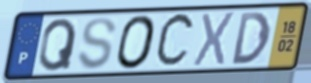C: (152, 10, 197, 72)
D: (230, 10, 272, 67)
O: (115, 13, 158, 71)
Q: (37, 16, 79, 74)
S: (75, 15, 119, 72)
X: (191, 10, 238, 68)
